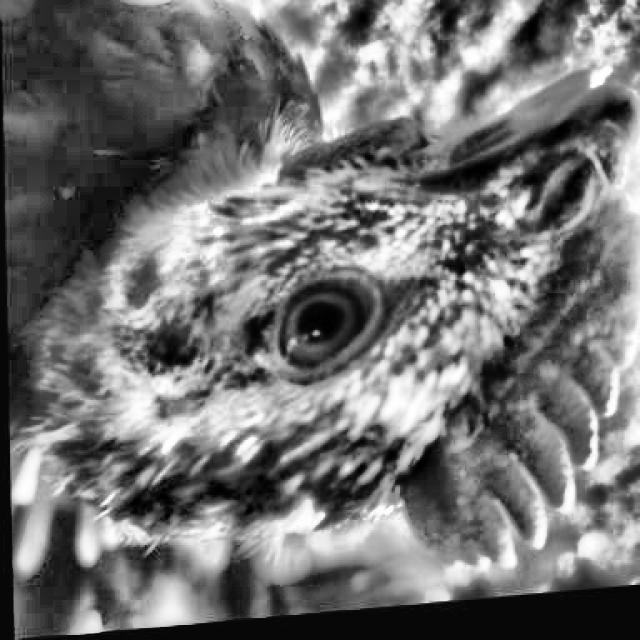Healthy: (215, 235, 452, 407)
